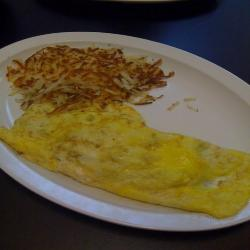omelette: (5, 101, 249, 222)
